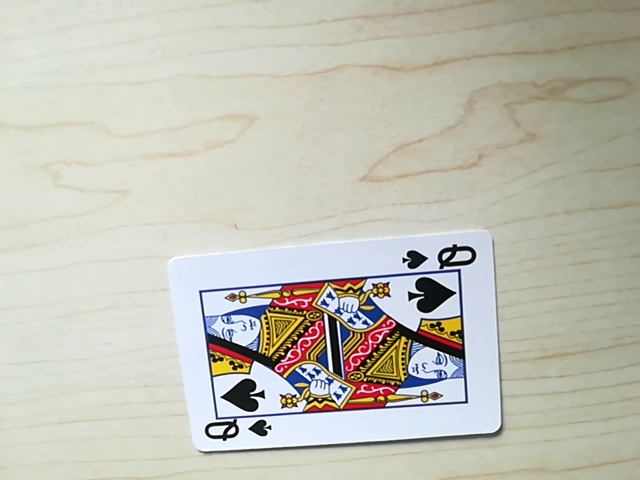ht q: (198, 412, 271, 451), (404, 239, 481, 272)
